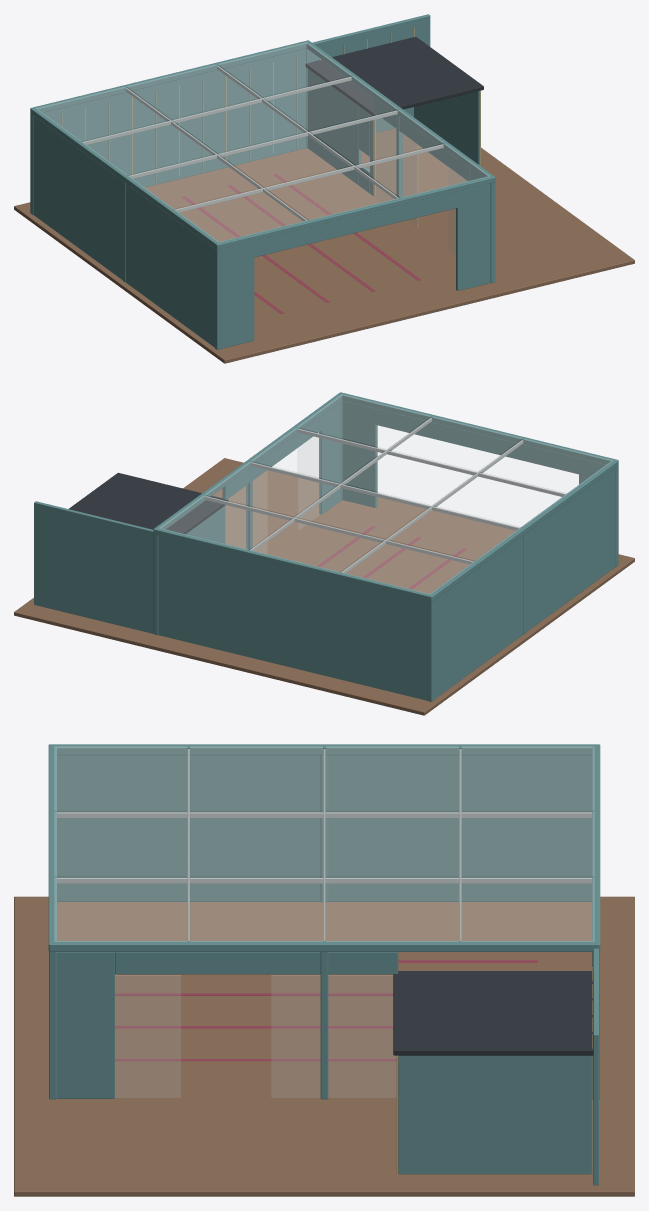
Rendered from abandoned-cinema-and-projection-booth-abandoned-cinema-eac6d3bc__29685.glb.
The picture shows the model from 3 angles, top to bottom: view 1: azimuth 30°, elevation 25°; view 2: azimuth 150°, elevation 25°; view 3: azimuth 270°, elevation 25°; orthographic projection. The views are drawn at different scales.
Parts seen in each view (by area): view 1: abandoned-cinema-and-projection-booth-cinema-building; view 2: abandoned-cinema-and-projection-booth-cinema-building; view 3: abandoned-cinema-and-projection-booth-cinema-building.
Boxes of the visible parts, bbox=[...] form: abandoned-cinema-and-projection-booth-cinema-building: bbox=[14, 14, 634, 363]; abandoned-cinema-and-projection-booth-cinema-building: bbox=[14, 392, 634, 715]; abandoned-cinema-and-projection-booth-cinema-building: bbox=[14, 744, 634, 1196].
Size of the model in its own units: 18 by 4.59 by 16.
